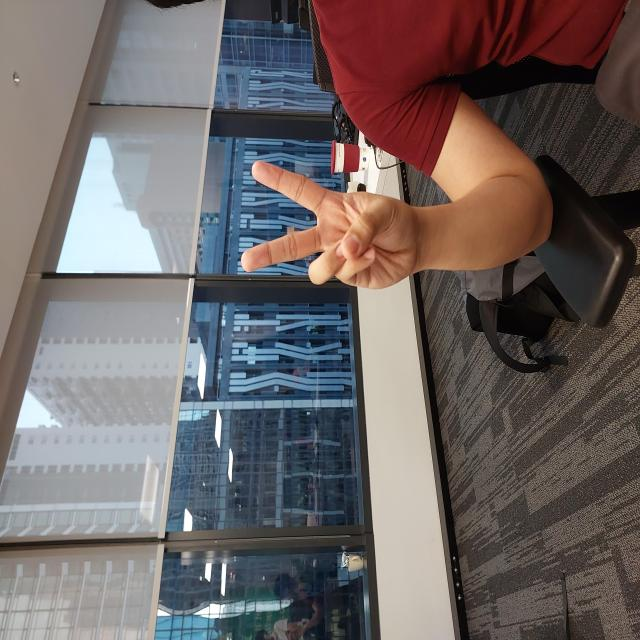V: (348, 239, 482, 422)
